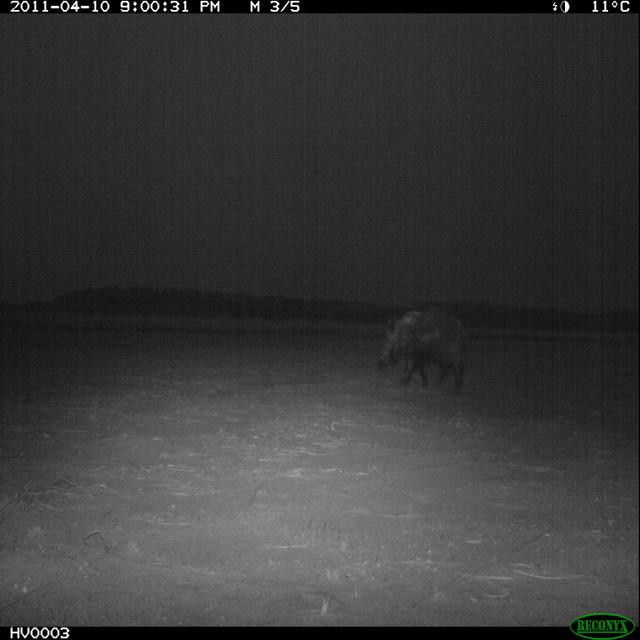boar: (364, 280, 479, 410)
